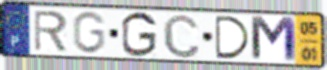C: (161, 12, 202, 60)
D: (213, 14, 253, 61)
G: (119, 10, 158, 59), (71, 10, 108, 56)
M: (248, 14, 300, 64)
R: (32, 9, 69, 53)
